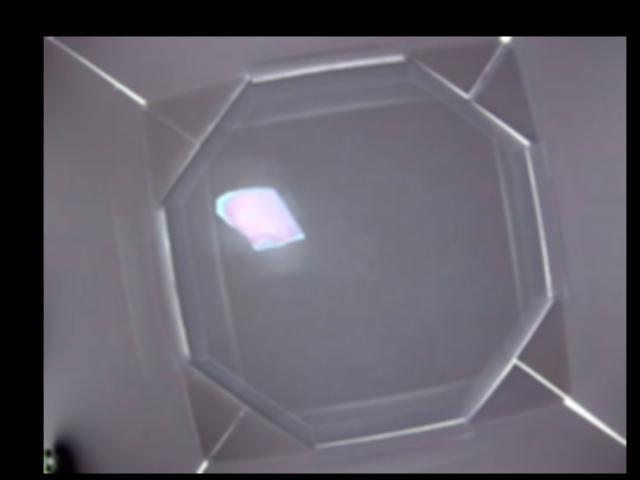China: (212, 185, 305, 249)
